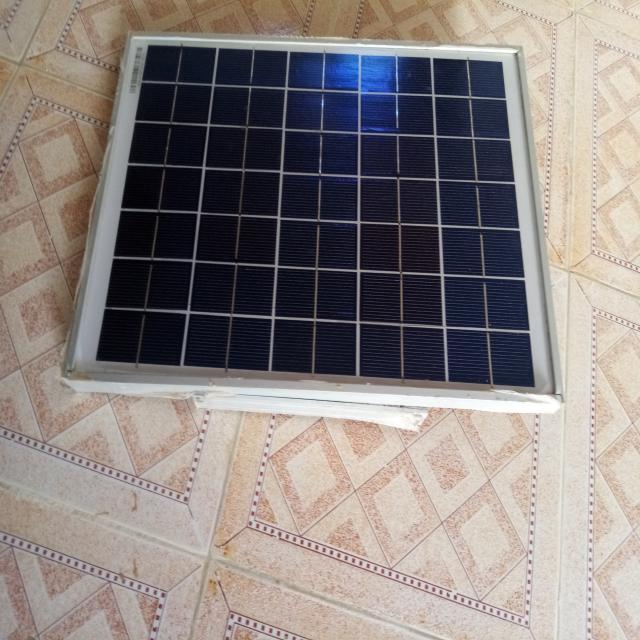Normal Solar Panel: (63, 35, 561, 396)
